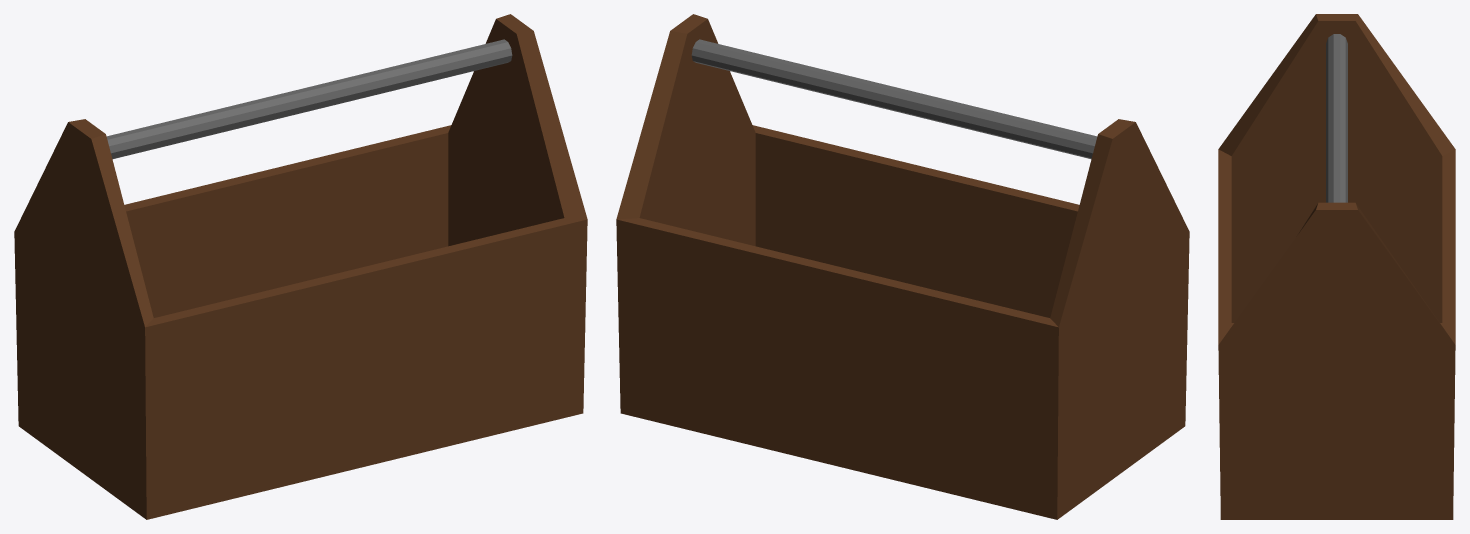
The model's file is Tool Box.fbx.
3 views of the same model, side by side, from view 1: azimuth 30°, elevation 25°; view 2: azimuth 150°, elevation 25°; view 3: azimuth 270°, elevation 25° (orthographic). The views are drawn at different scales.
Parts seen in each view (by area): view 1: Tool Box; view 2: Tool Box; view 3: Tool Box.
Boxes of the visible parts, x1,y1,x2,y2 form: Tool Box: (14, 14, 587, 519); Tool Box: (616, 14, 1189, 519); Tool Box: (1218, 14, 1455, 519).
Bounding box in the file's own units: 68.14 × 50.52 × 34.87.
